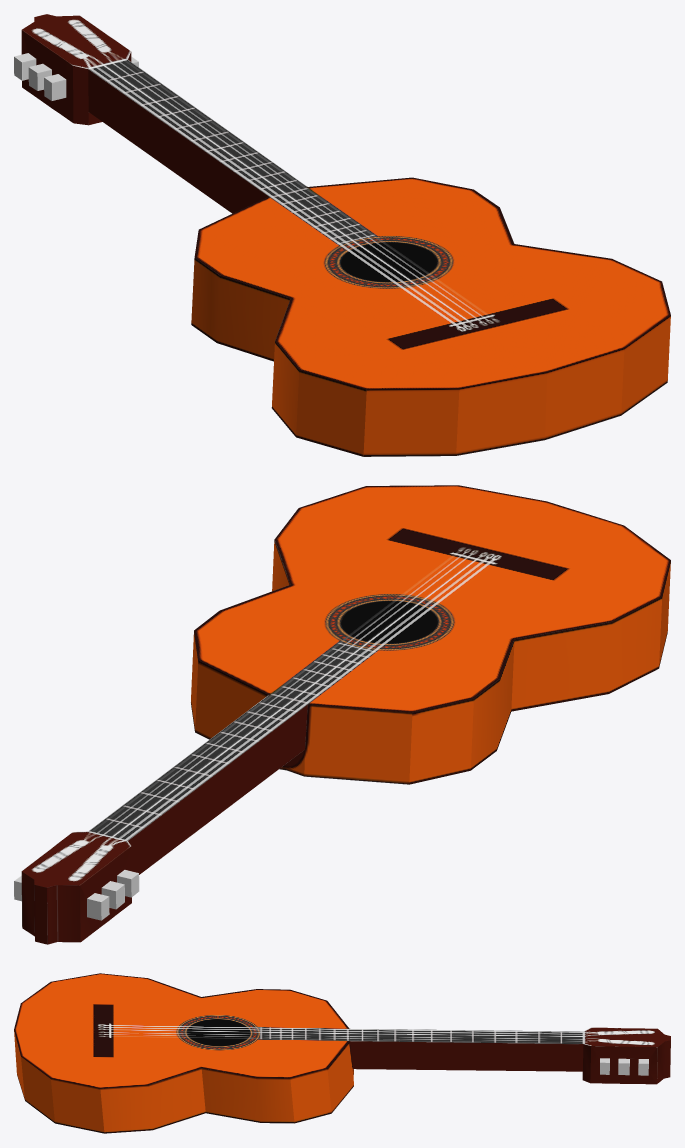
File: guitarra-2.obj
The picture shows the model from 3 angles, top to bottom: view 1: azimuth 30°, elevation 25°; view 2: azimuth 150°, elevation 25°; view 3: azimuth 270°, elevation 25°; orthographic projection. The views are drawn at different scales.
Visible parts, largest first — view 1: g2_pPlane4; view 2: g2_pPlane4; view 3: g2_pPlane4.
Part boxes in pixels (box(x1,y1,x2,y2)): g2_pPlane4: box(14, 14, 670, 456); g2_pPlane4: box(14, 485, 670, 944); g2_pPlane4: box(14, 973, 670, 1133).
Bounding box in the file's own units: 5.12 × 1.05 × 12.36.
Materials: 1 (1 with a texture image).
